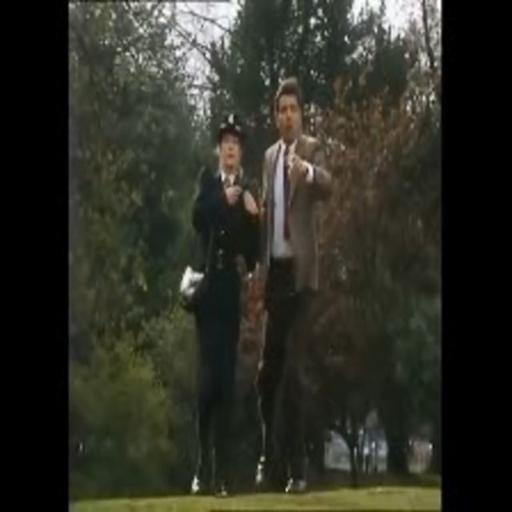nao-violencia: (177, 63, 342, 505)
